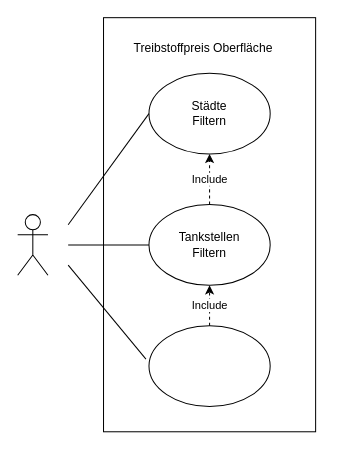
The diagram is 352 pixels wide and 449 high, and some of its shapes have lost their labels. Here are the shapes that lost their labels. From the top down, the centre of each, then its label:
point (32, 244): User
point (209, 366): Preise Abrufen
